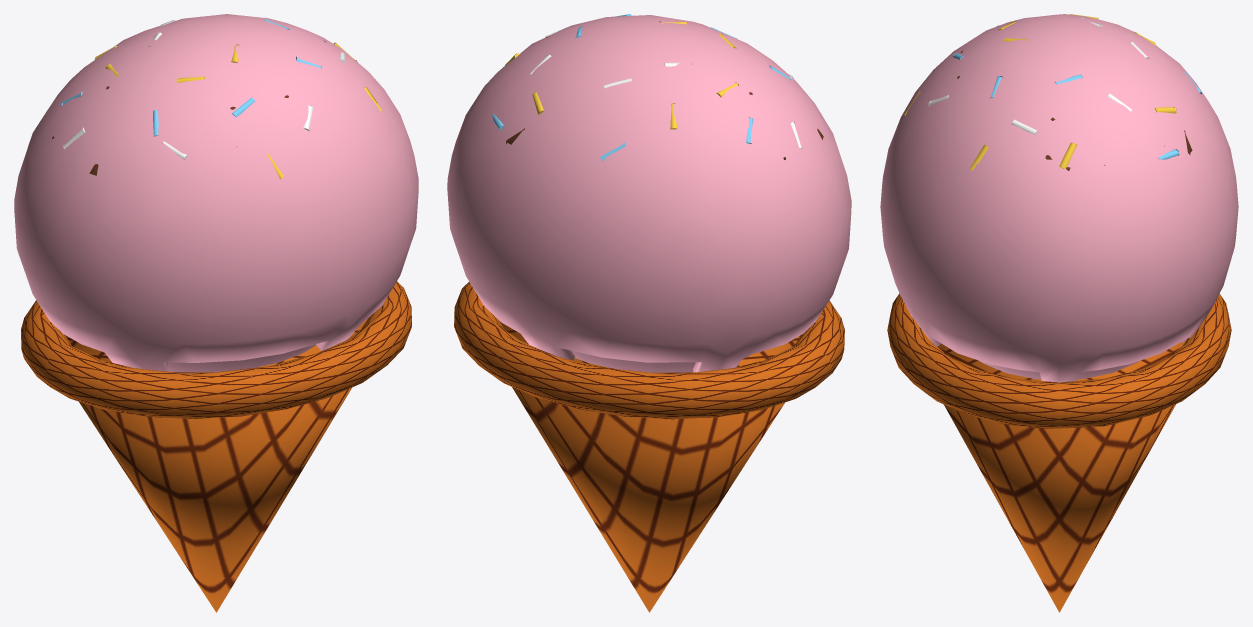
3 renders of one model, left to right at view 1: azimuth 30°, elevation 25°; view 2: azimuth 150°, elevation 25°; view 3: azimuth 270°, elevation 25°, orthographic.
Parts seen in each view (by area): view 1: matkropp; view 2: matkropp; view 3: matkropp.
Part boxes in pixels (x1,y1,x2,y2): matkropp: [14, 14, 418, 612]; matkropp: [447, 14, 851, 612]; matkropp: [880, 14, 1238, 612].
Bounding box in the file's own units: 0.8836 × 1.35 × 0.7605.
6 materials, 1 textured.
